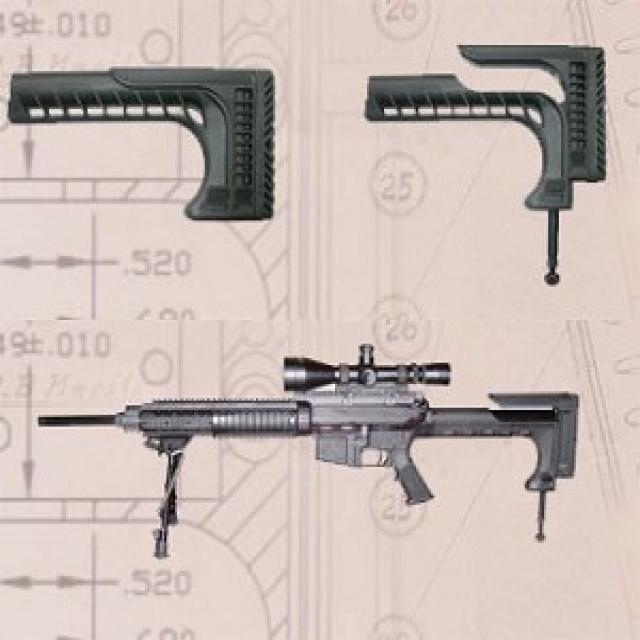Rifle: (36, 346, 576, 507)
